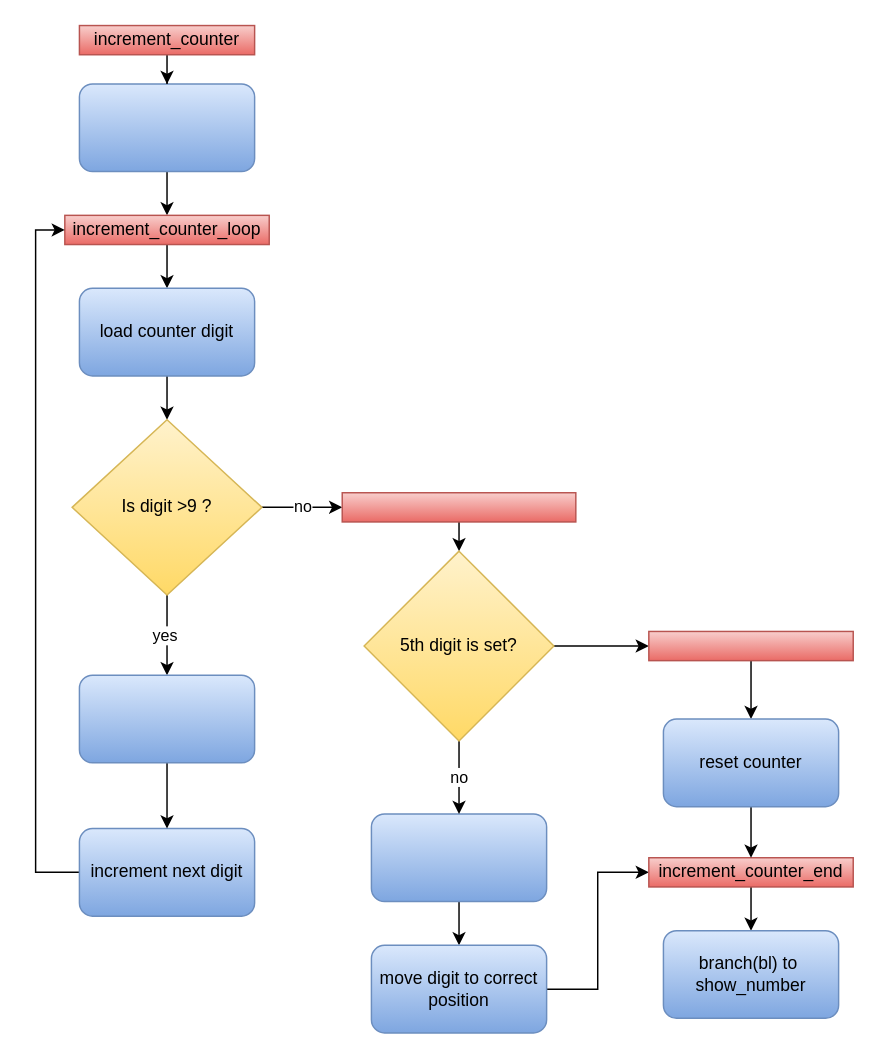
Image size: 879x1059. Some labels were removed from this diagram. Here are the shapes that lost their labels. From the top down, the centre of each, then its label:
At (x=166, y=127): "load mm_counter".
At (x=458, y=506): "increment_counter_loop_end".
At (x=750, y=645): "increment_counter_reste".
At (x=166, y=718): "set digit to zero".
At (x=458, y=857): "increment digit".
